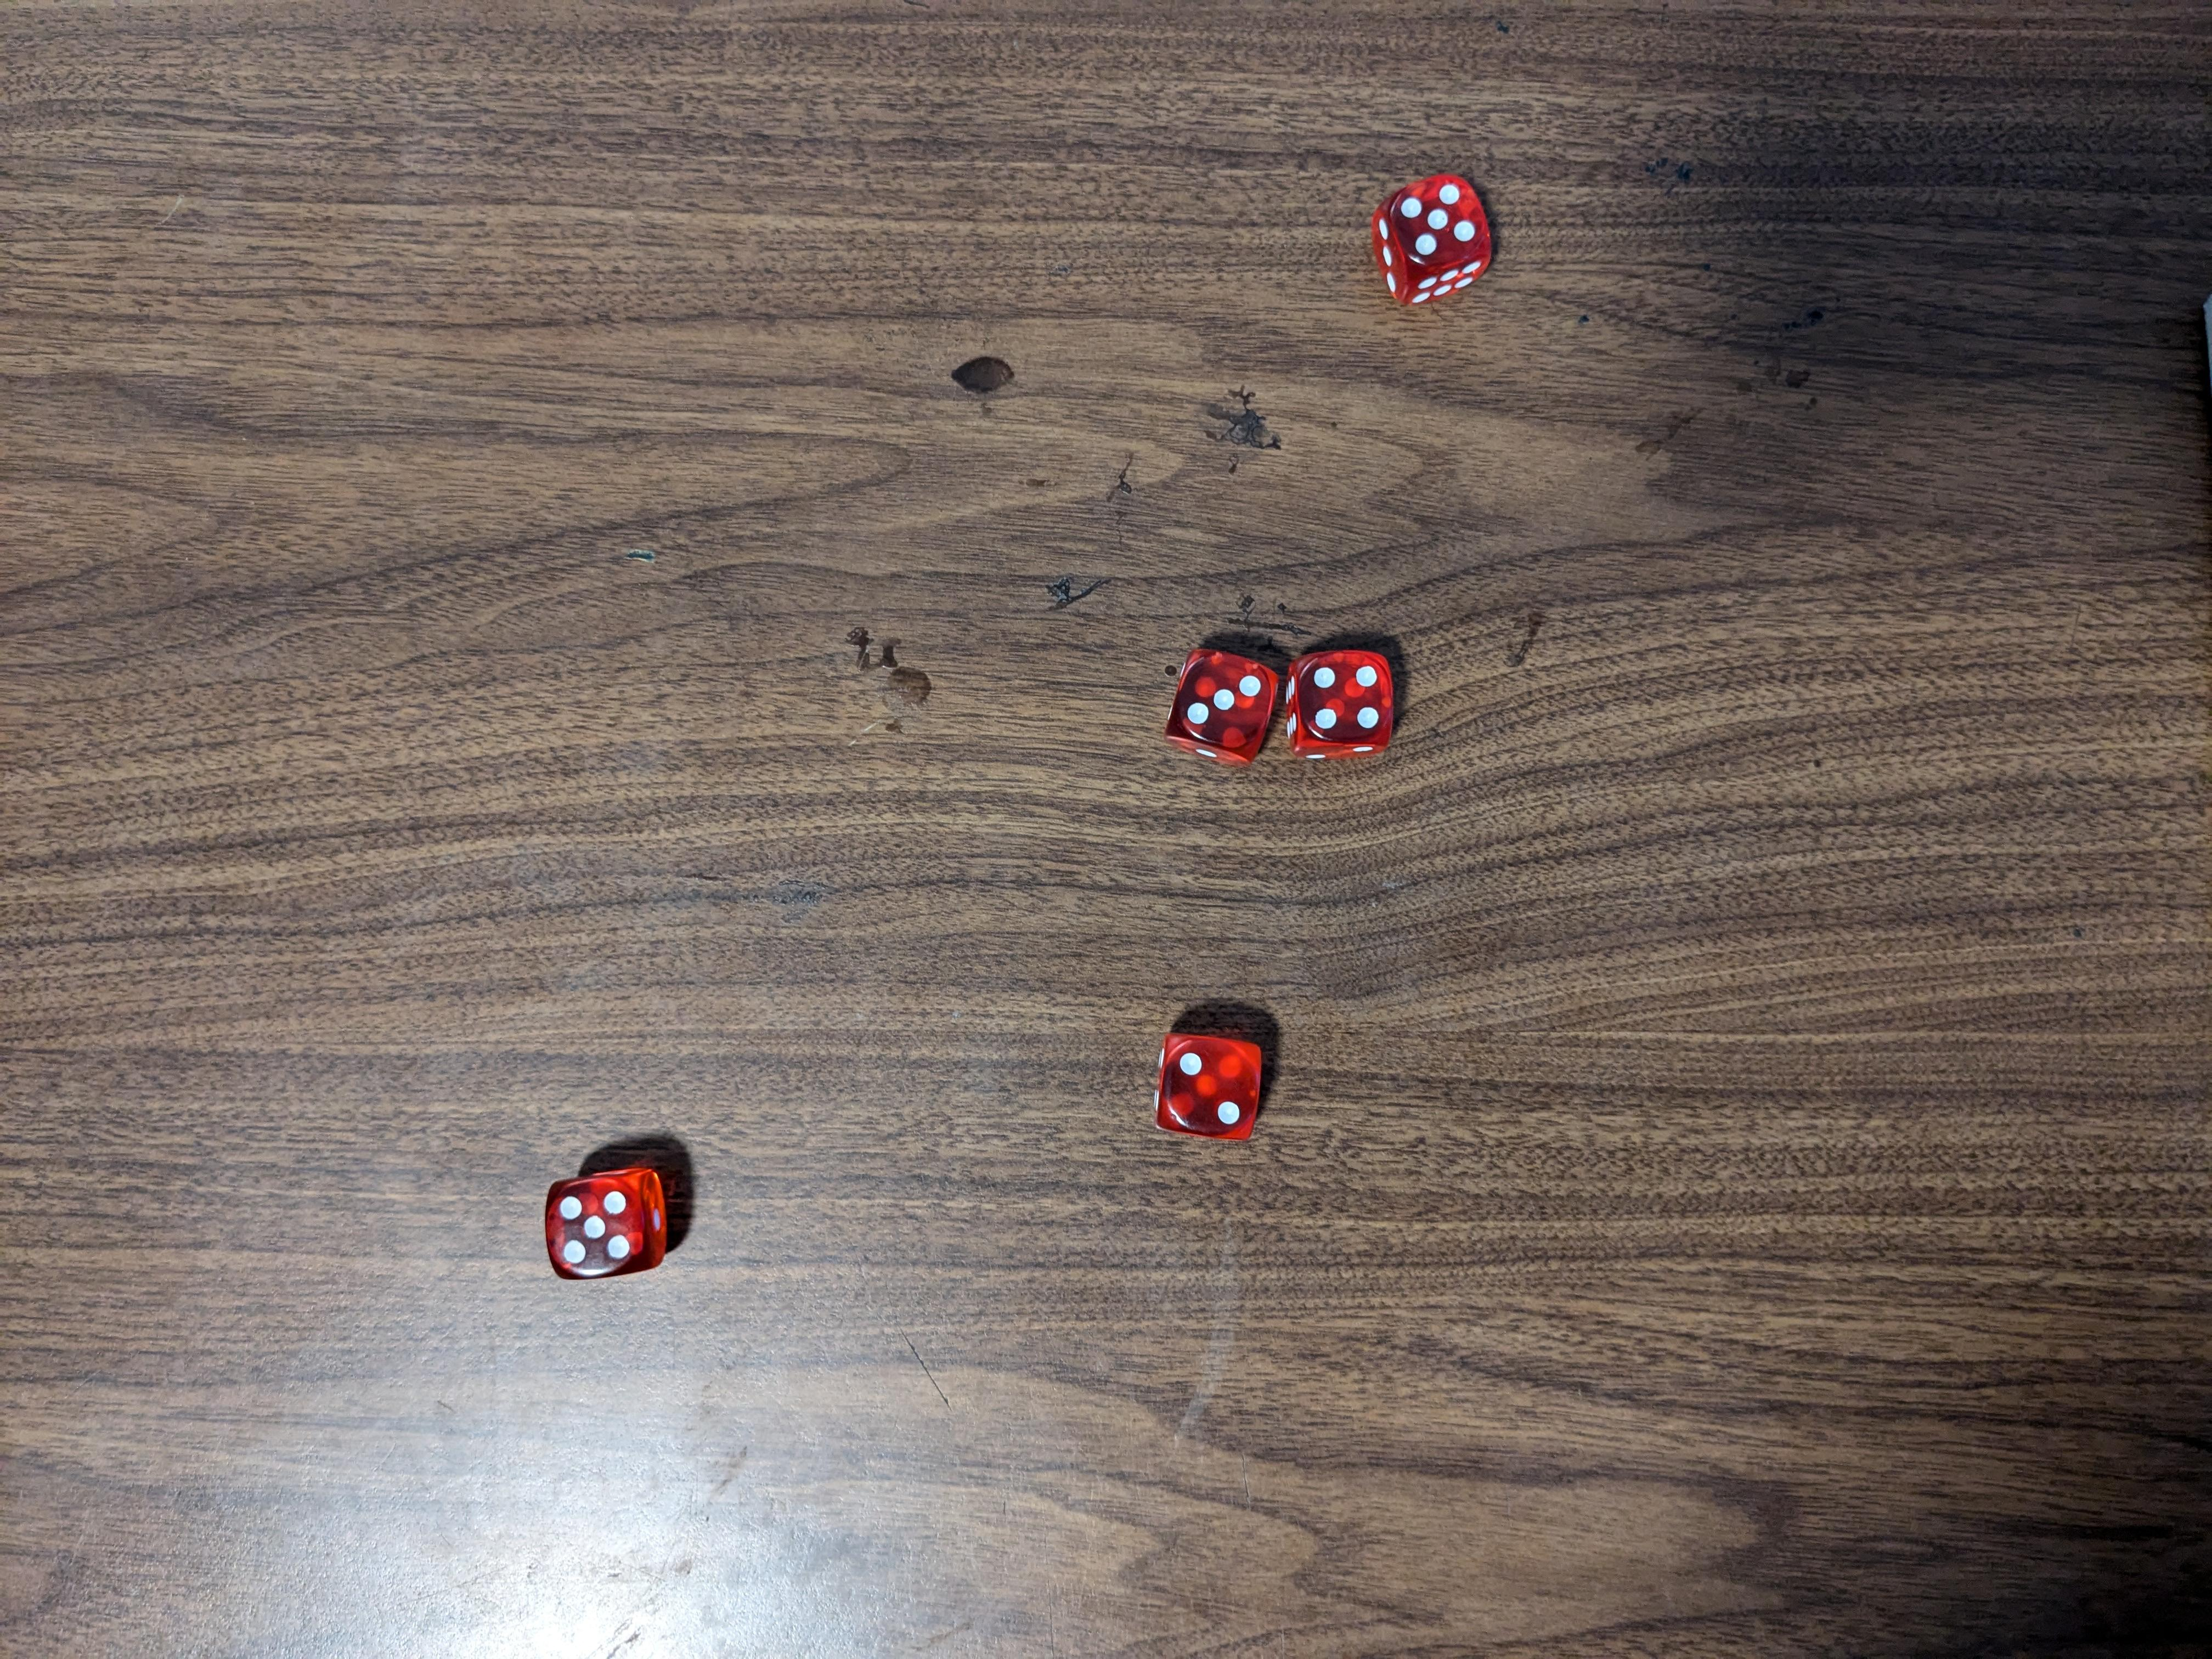five: (1371, 171, 1496, 305), (549, 1166, 667, 1277)
four: (1282, 645, 1400, 765)
three: (1160, 645, 1289, 769)
two: (1150, 1025, 1268, 1152)
